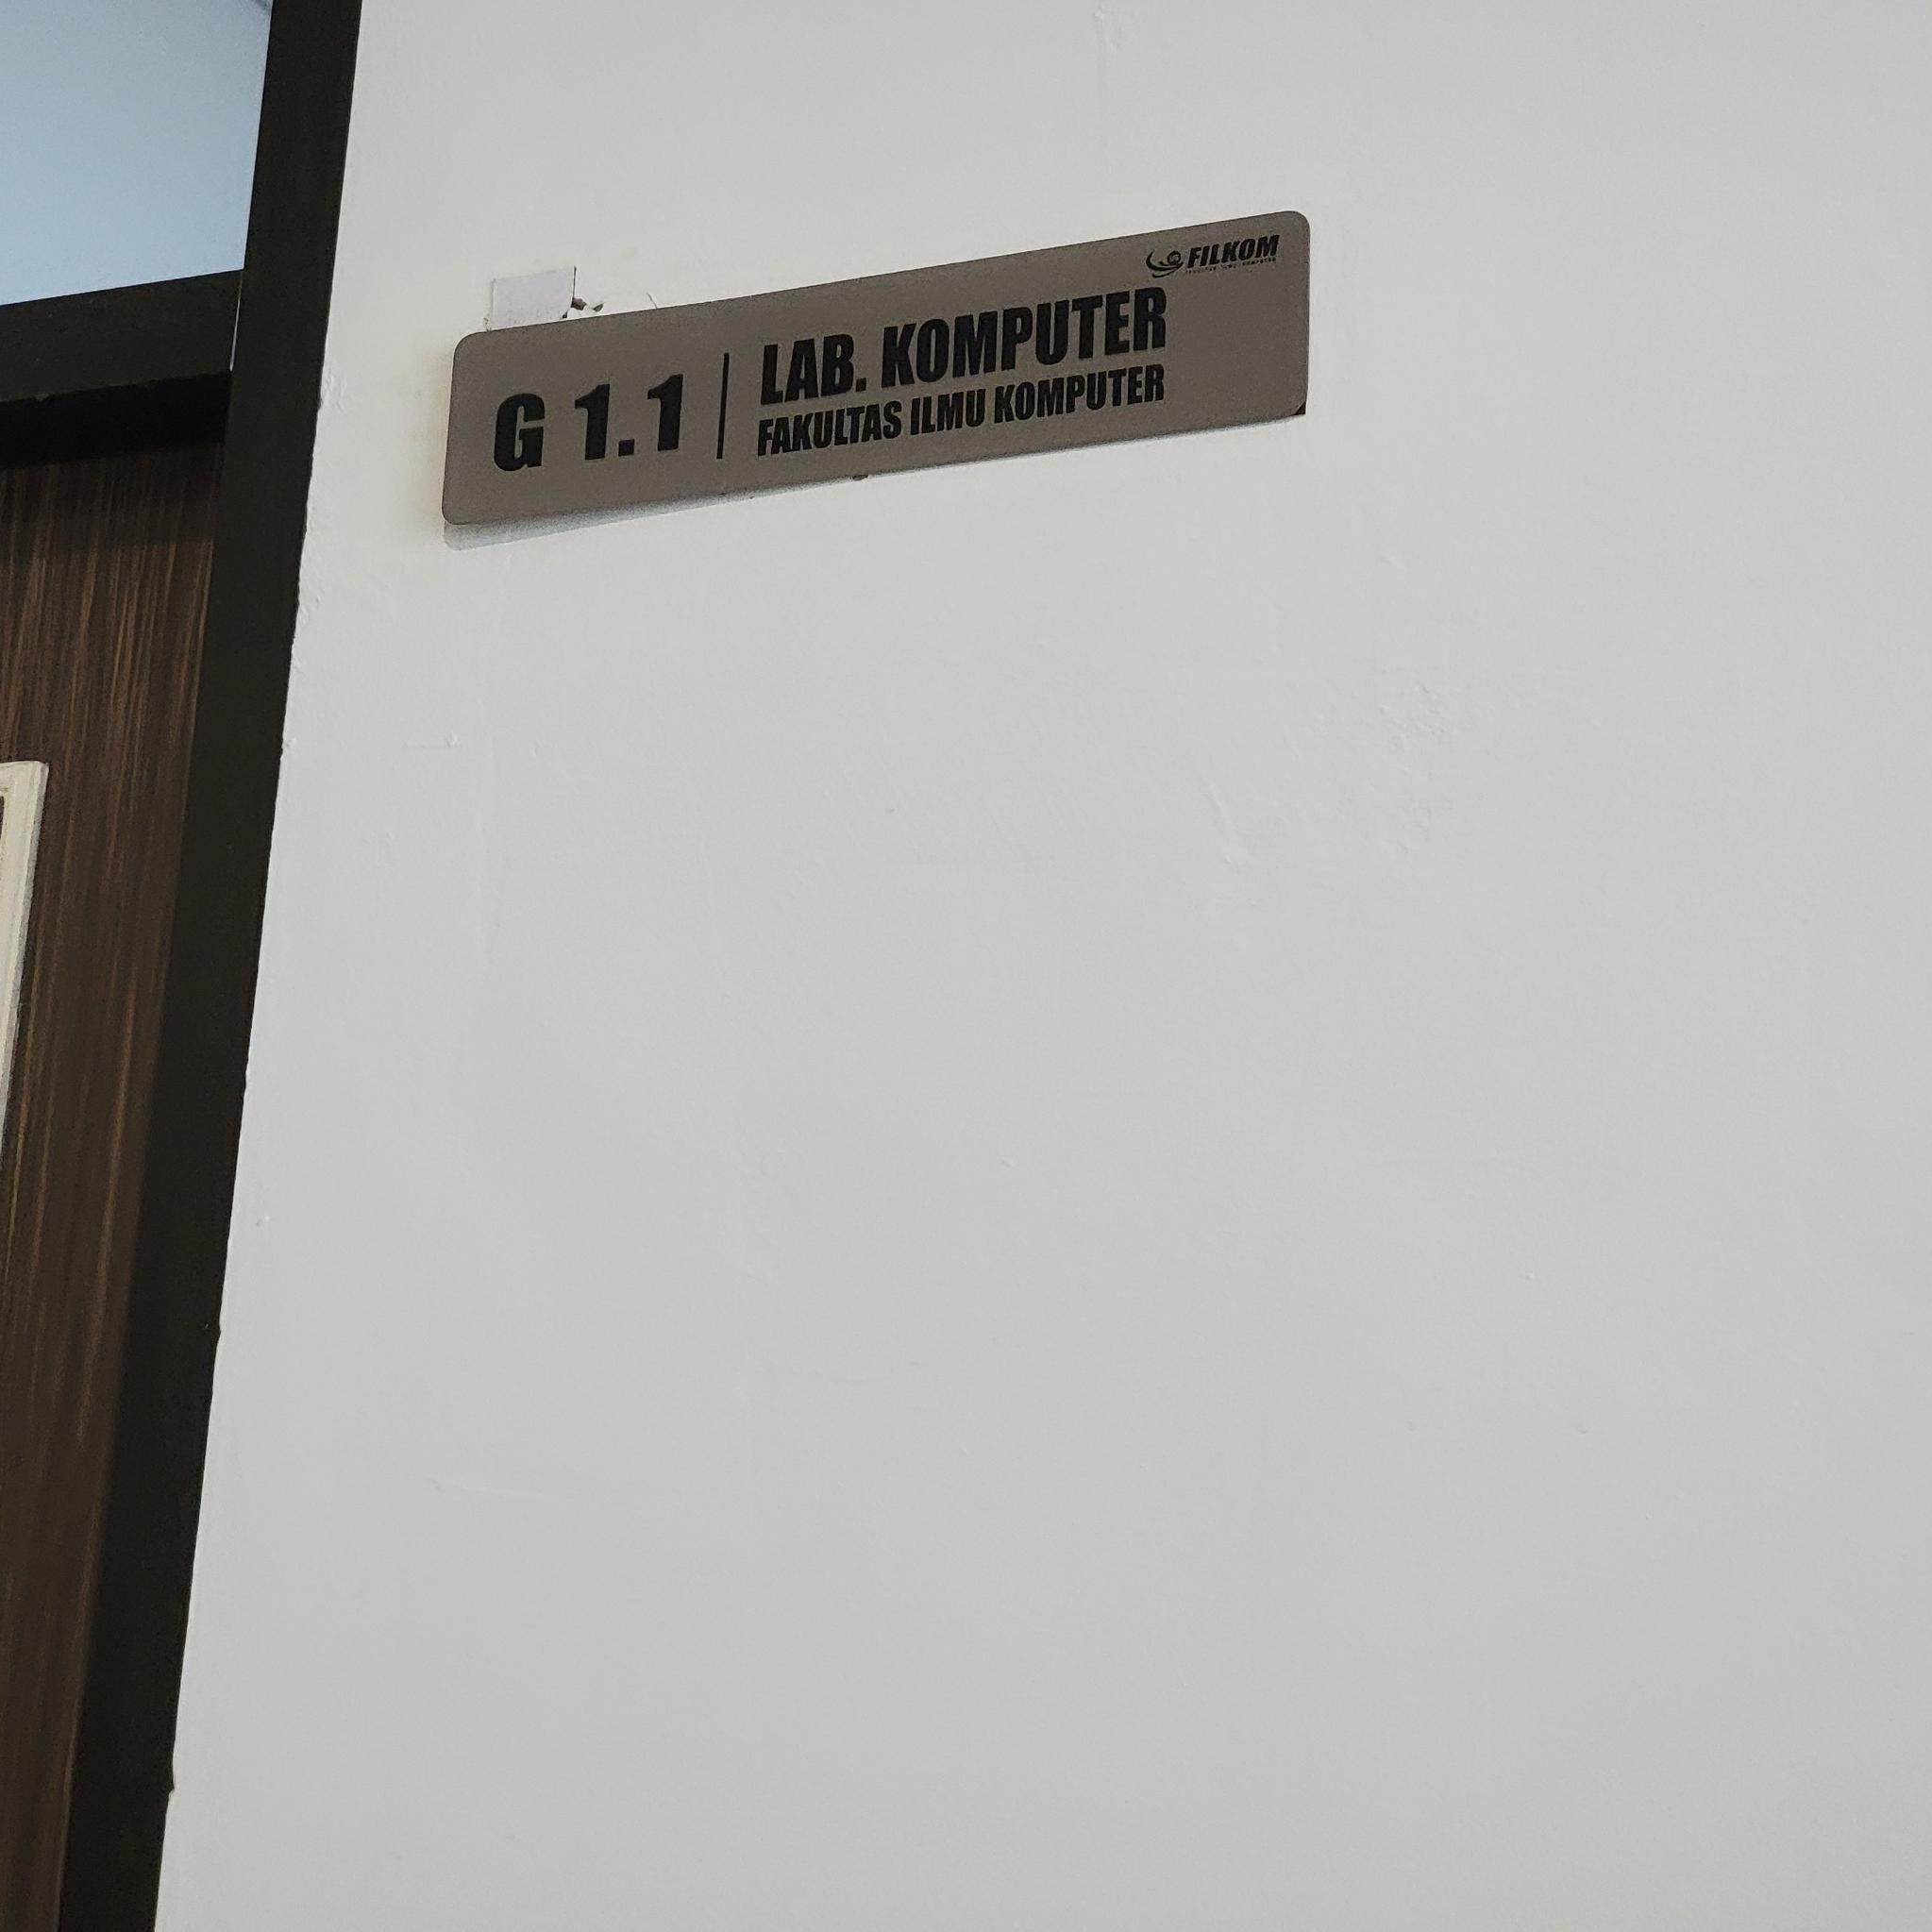plate: (441, 205, 1307, 527)
